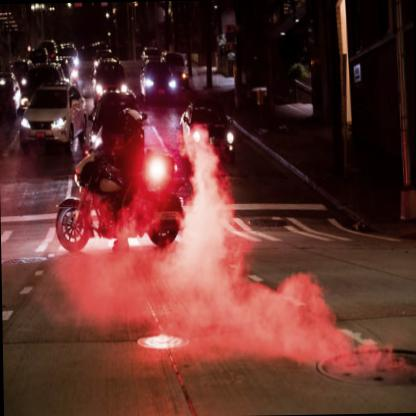manholes: (293, 314, 416, 401), (124, 312, 193, 360)
